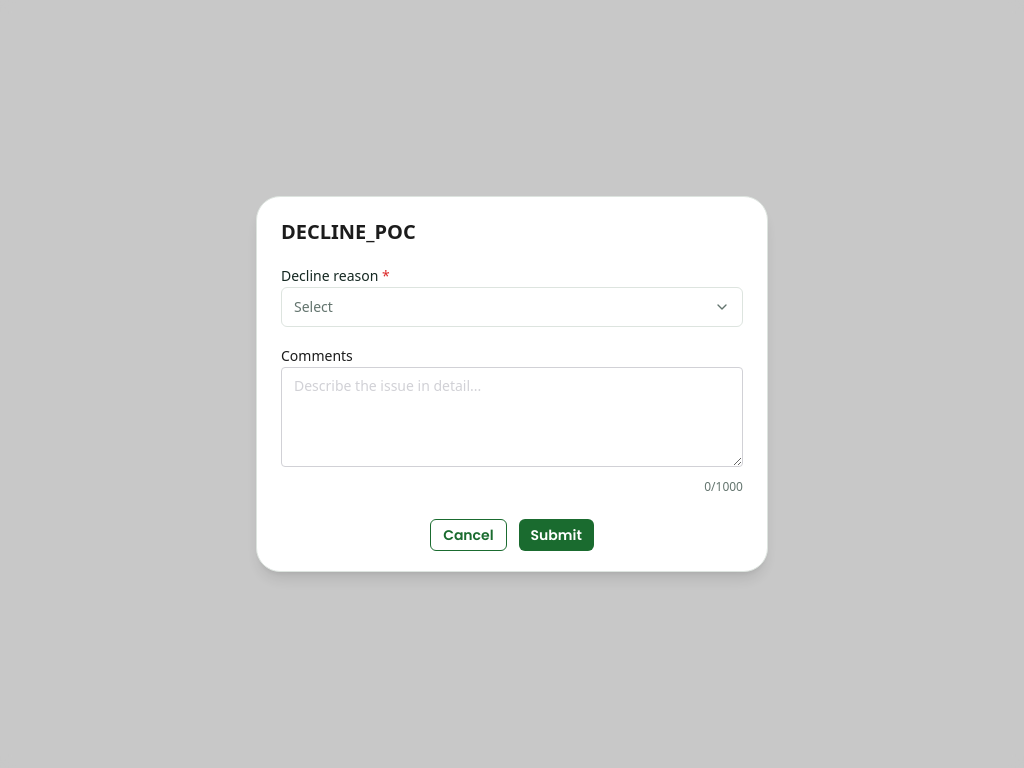
Test: ComplaintActionDialog › reason master (DECLINE_POC) › blocks submission when no reason is selected
Click the button "Submit".
click(556, 535)  # box [519, 519, 594, 551]
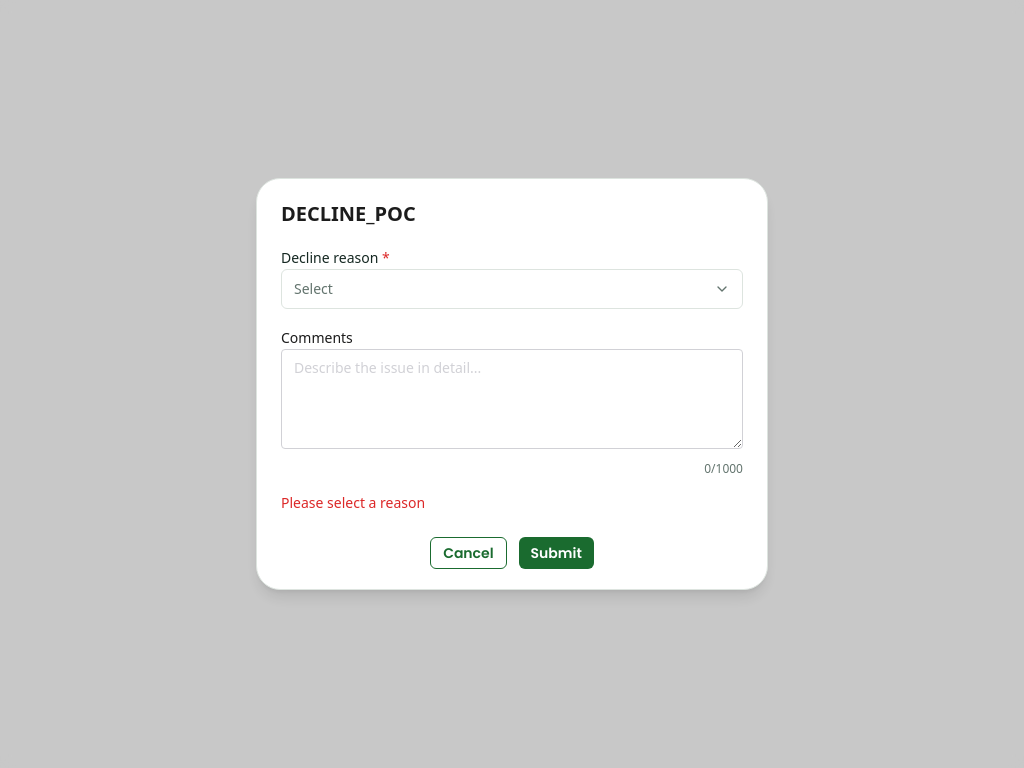
Expected: the text "Please select a reason" is shown, [281, 493, 425, 512]
